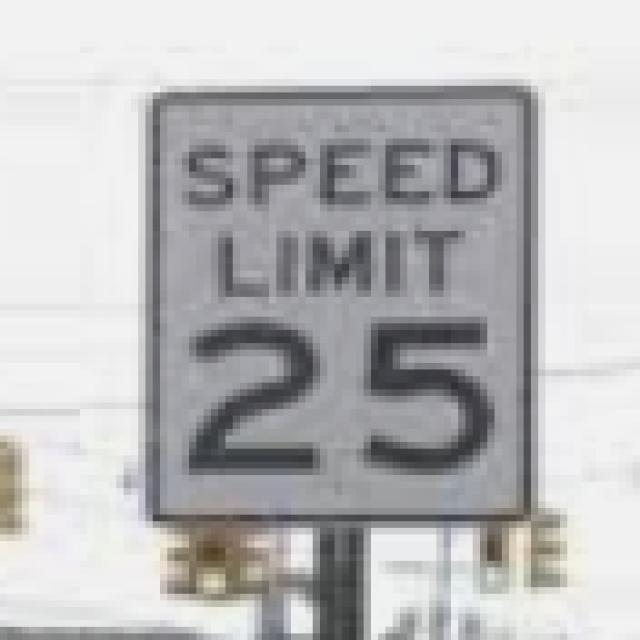speedLimit25: (152, 85, 536, 524)
